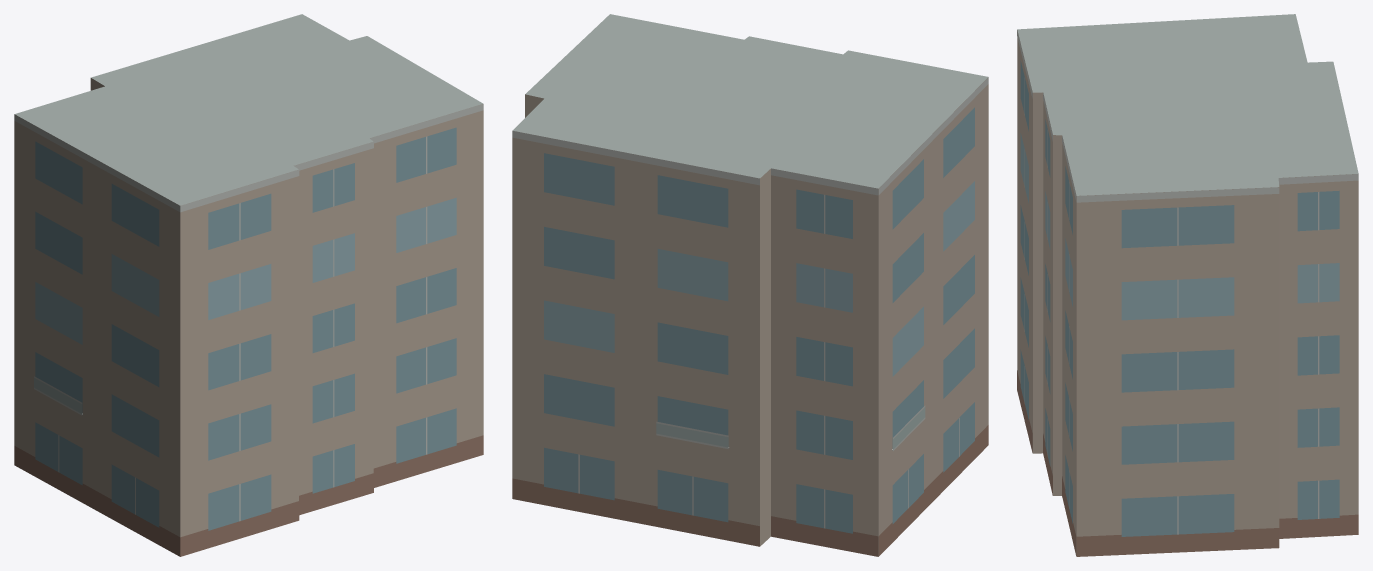
File: survey-upis-32982586.glb
The picture shows the model from 3 angles, left to right: view 1: azimuth 30°, elevation 25°; view 2: azimuth 150°, elevation 25°; view 3: azimuth 270°, elevation 25°; orthographic projection. The views are drawn at different scales.
Parts seen in each view (by area): view 1: survey-upis-32982586.tmp; view 2: survey-upis-32982586.tmp; view 3: survey-upis-32982586.tmp.
Boxes of the visible parts, x1,y1,x2,y2 form: survey-upis-32982586.tmp: (14,14,483,556); survey-upis-32982586.tmp: (512,14,988,556); survey-upis-32982586.tmp: (1017,14,1358,556).
Size of the model in its own units: 14.06 by 13 by 11.16.
